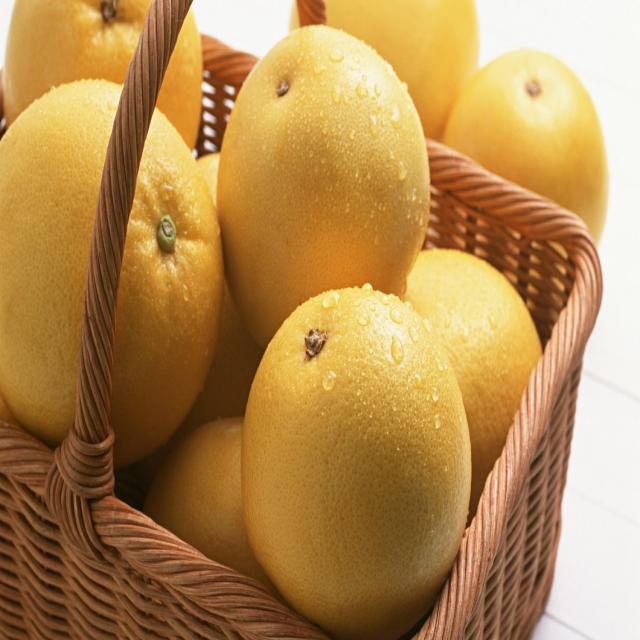orange: (242, 252, 474, 631), (0, 73, 227, 460), (230, 25, 444, 323), (398, 212, 546, 482), (6, 0, 222, 182), (284, 0, 514, 158), (458, 52, 614, 247), (157, 401, 291, 593), (180, 274, 292, 452), (170, 135, 255, 269)
